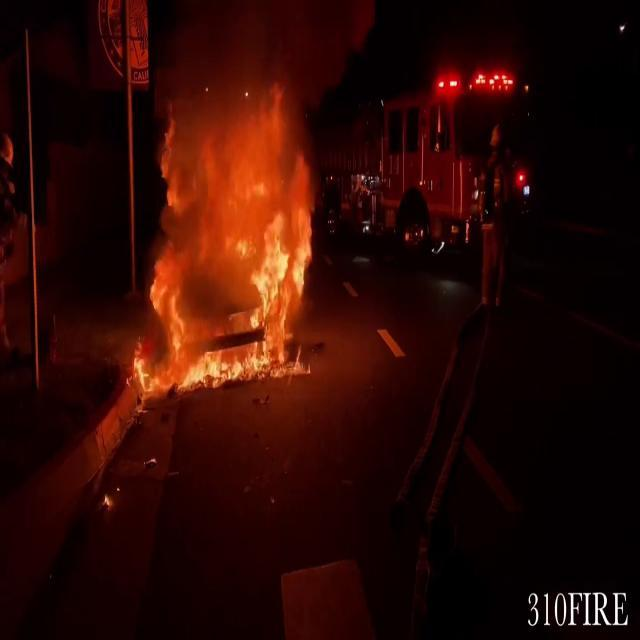Fire: (122, 47, 326, 397)
